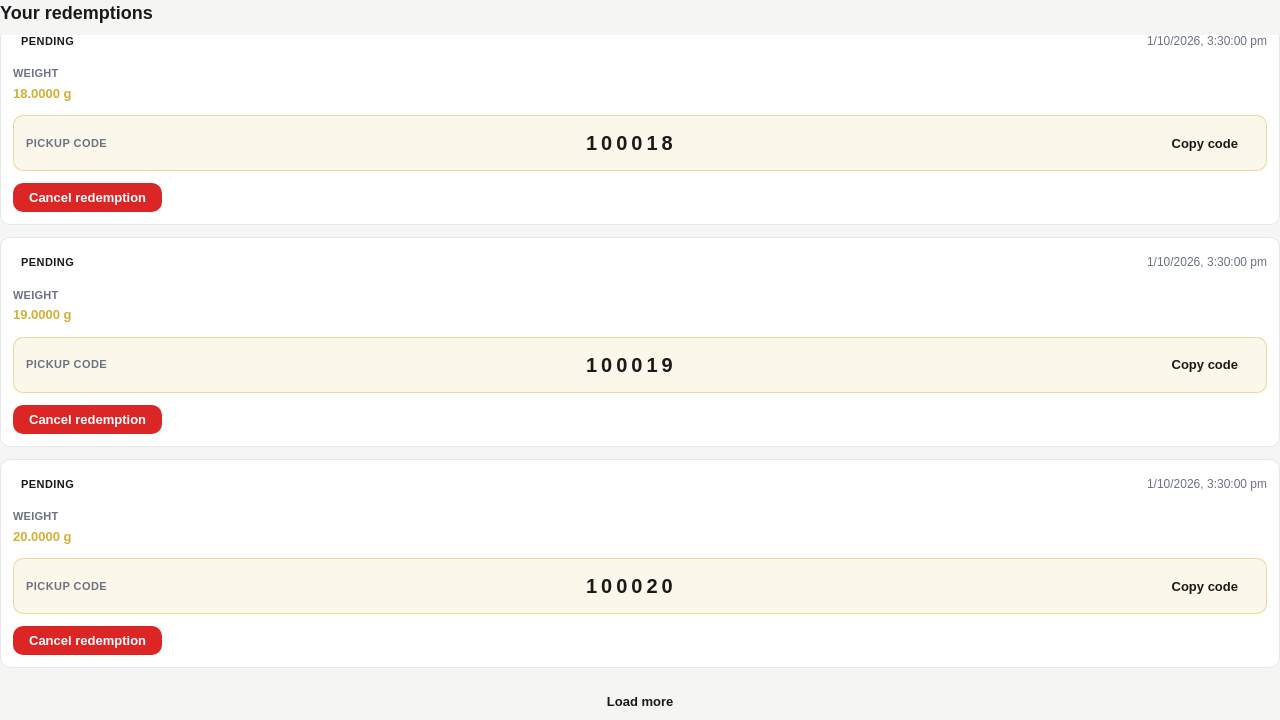
it: RedemptionList › loads more pages on demand
(page scrolled)
Click the button "Load more" at (640, 702), box [591,684,689,719]
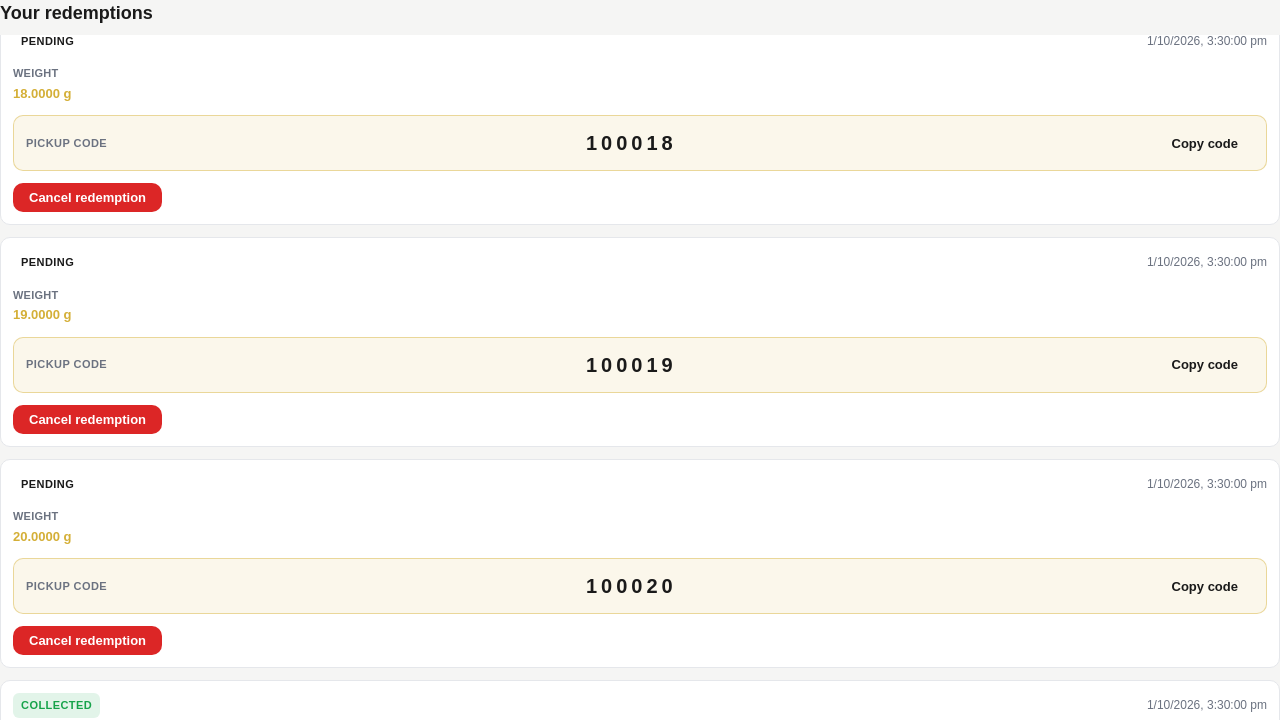
Now the text "Collected" is shown, box [13,693,100,718]
Now the button "Load more" is gone
